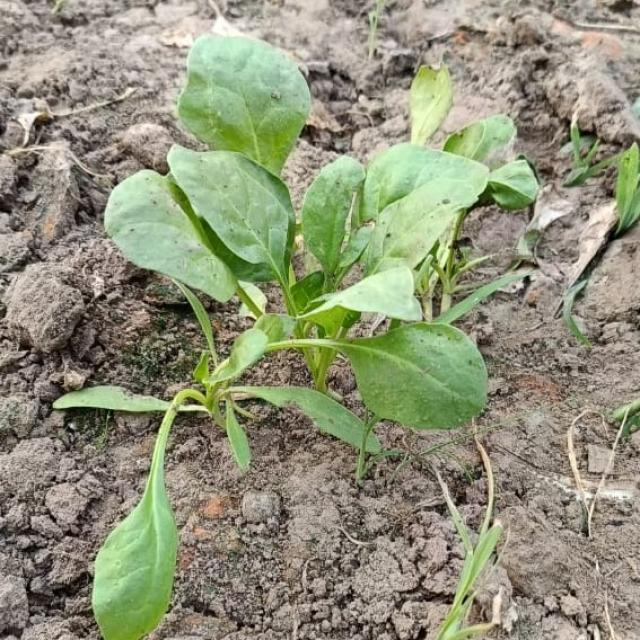plant: (55, 36, 538, 639)
